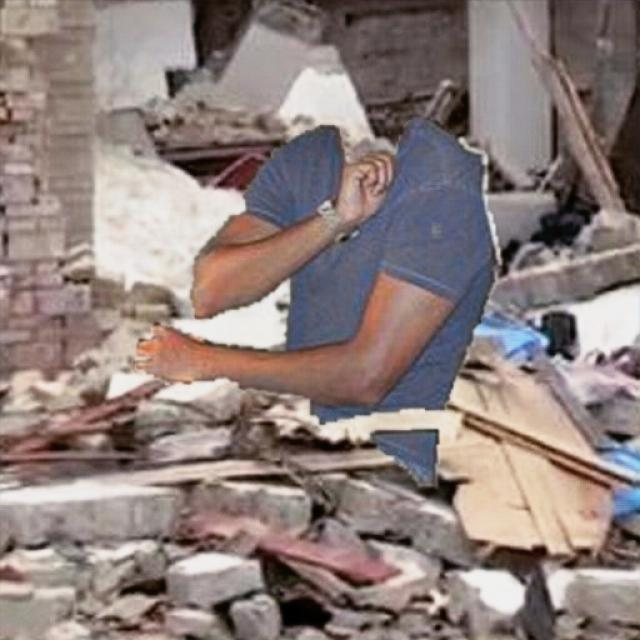Person in Rubble: (134, 118, 502, 488)
